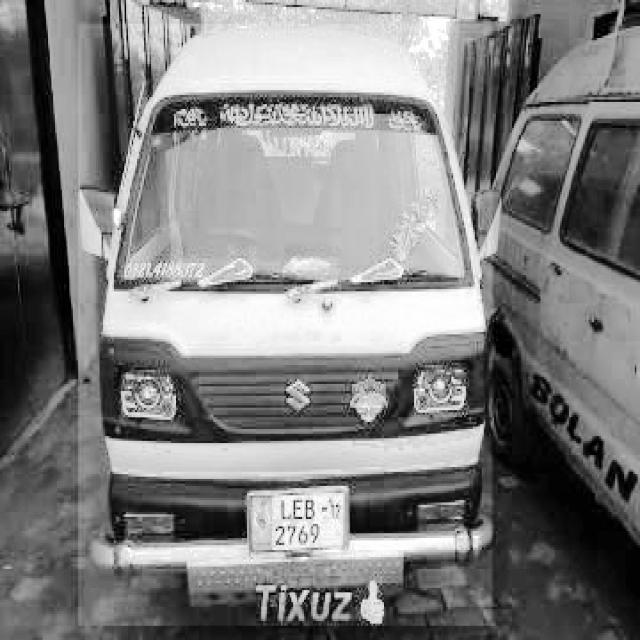LCV: (78, 24, 494, 628)
